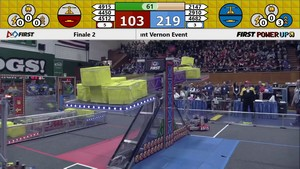cube: (79, 65, 111, 84), (109, 84, 137, 102), (92, 85, 110, 102), (7, 125, 28, 137), (77, 84, 91, 101), (186, 67, 201, 79), (180, 56, 194, 65)
